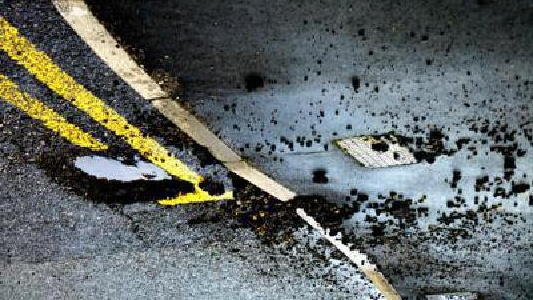pothole: (36, 146, 195, 207)
